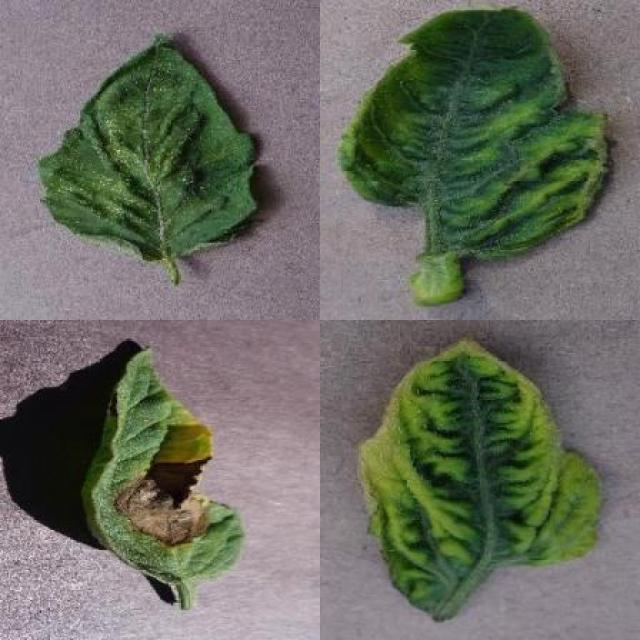Early Blight: (84, 338, 245, 593)
Spider Mites: (41, 32, 260, 261)
Yellow Leaf Curl Virus: (337, 5, 613, 262), (355, 336, 602, 621)
